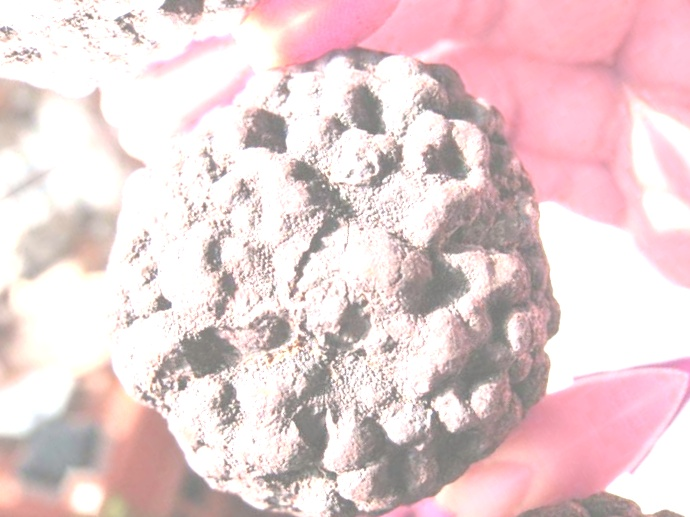halobolite: (72, 49, 608, 517)
